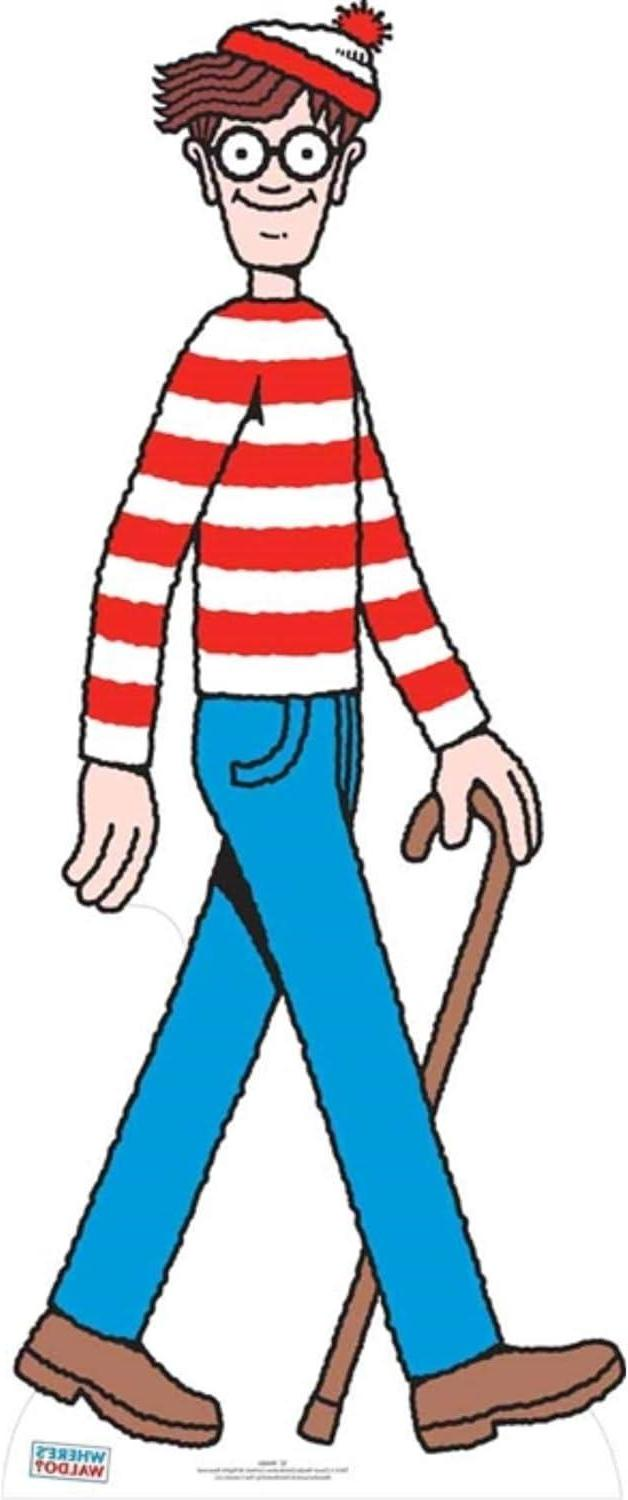waldos: (11, 3, 626, 1453)
